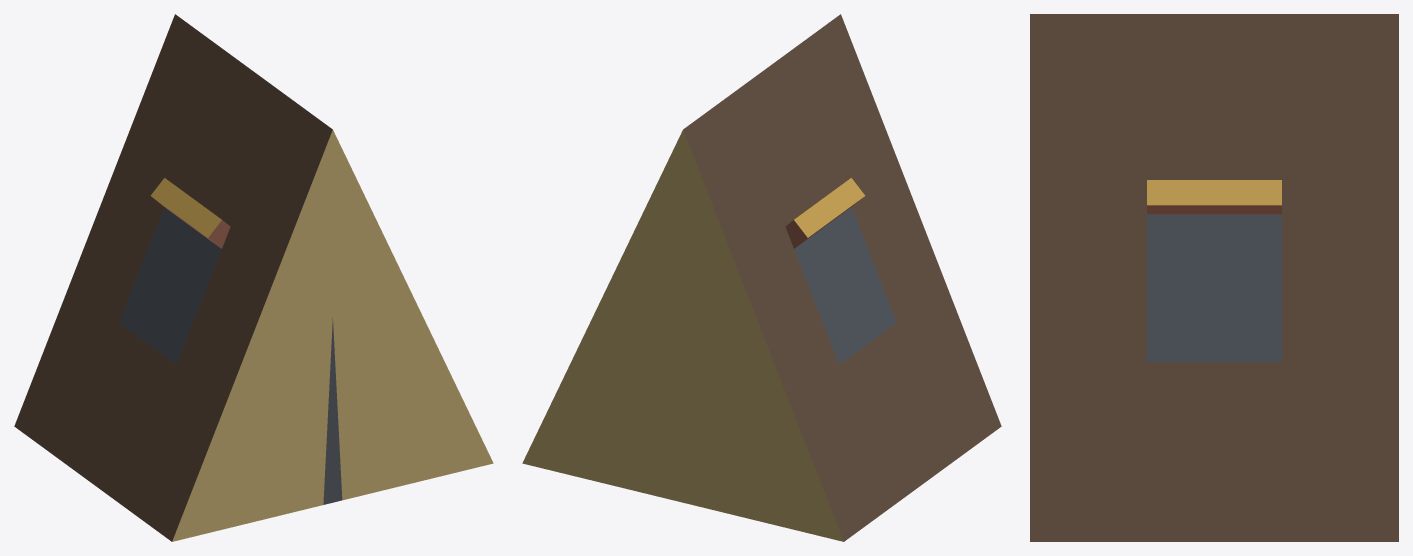
Rendered from TB_D_Prop_Tent_B.FBX.
The picture shows the model from 3 angles, left to right: view 1: azimuth 30°, elevation 25°; view 2: azimuth 150°, elevation 25°; view 3: azimuth 270°, elevation 25°; orthographic projection. The views are drawn at different scales.
Visible parts, largest first — view 1: TB_D_Prop_Tent_B; view 2: TB_D_Prop_Tent_B; view 3: TB_D_Prop_Tent_B.
Part boxes in pixels (bbox=[...]): TB_D_Prop_Tent_B: bbox=[14, 14, 493, 541]; TB_D_Prop_Tent_B: bbox=[522, 14, 1001, 541]; TB_D_Prop_Tent_B: bbox=[1030, 14, 1398, 541].
Bounding box in the file's own units: 2.86 × 3.17 × 2.43.
